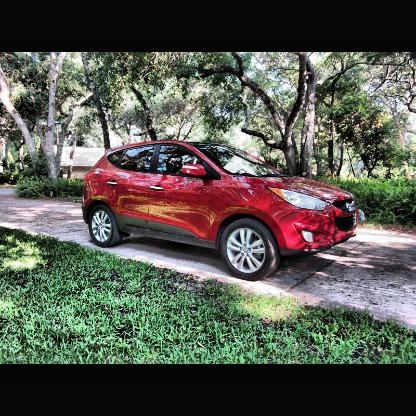Hyundai Tucson SUV 2012: (83, 143, 361, 282)
